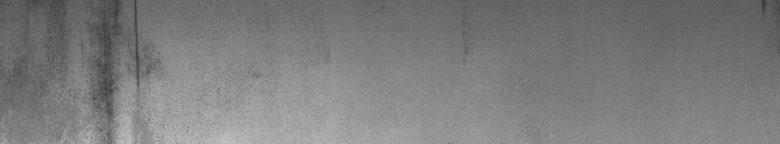ka: (4, 4, 169, 136)
